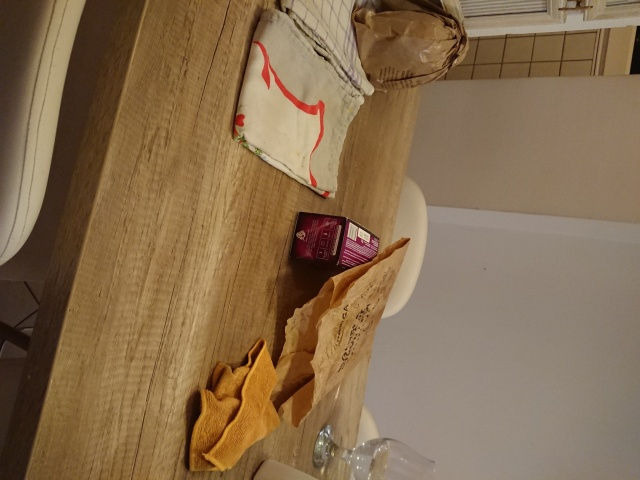Franck Black Currant Tea 60g: (286, 208, 382, 280)
